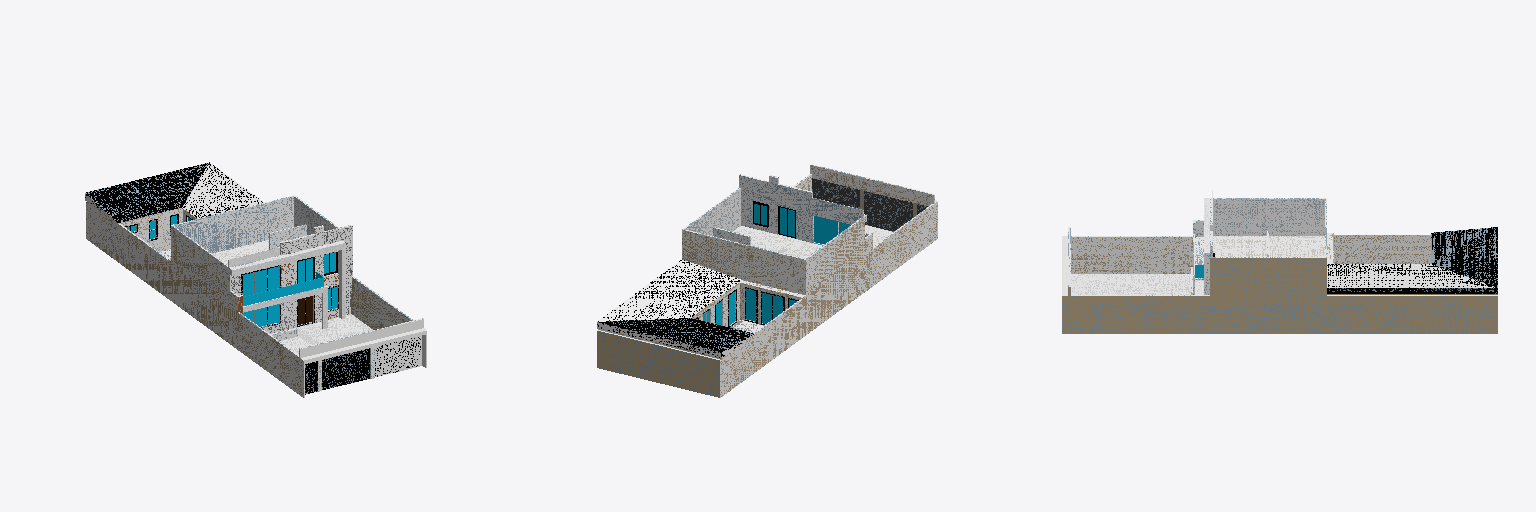
Rendered from CasaYeferosfinal.obj.
The picture shows the model from 3 angles: view 1: azimuth 30°, elevation 25°; view 2: azimuth 150°, elevation 25°; view 3: azimuth 270°, elevation 25°; orthographic projection.
Parts seen in each view (by area): view 1: Mesh175 Model; view 2: Mesh175 Model; view 3: Mesh175 Model.
Boxes of the visible parts, x1=… form: Mesh175 Model: x1=85, y1=162, x2=426, y2=397; Mesh175 Model: x1=597, y1=164, x2=937, y2=397; Mesh175 Model: x1=1062, y1=190, x2=1497, y2=333.
Bounding box in the file's own units: 10.09 × 7.31 × 30.51.